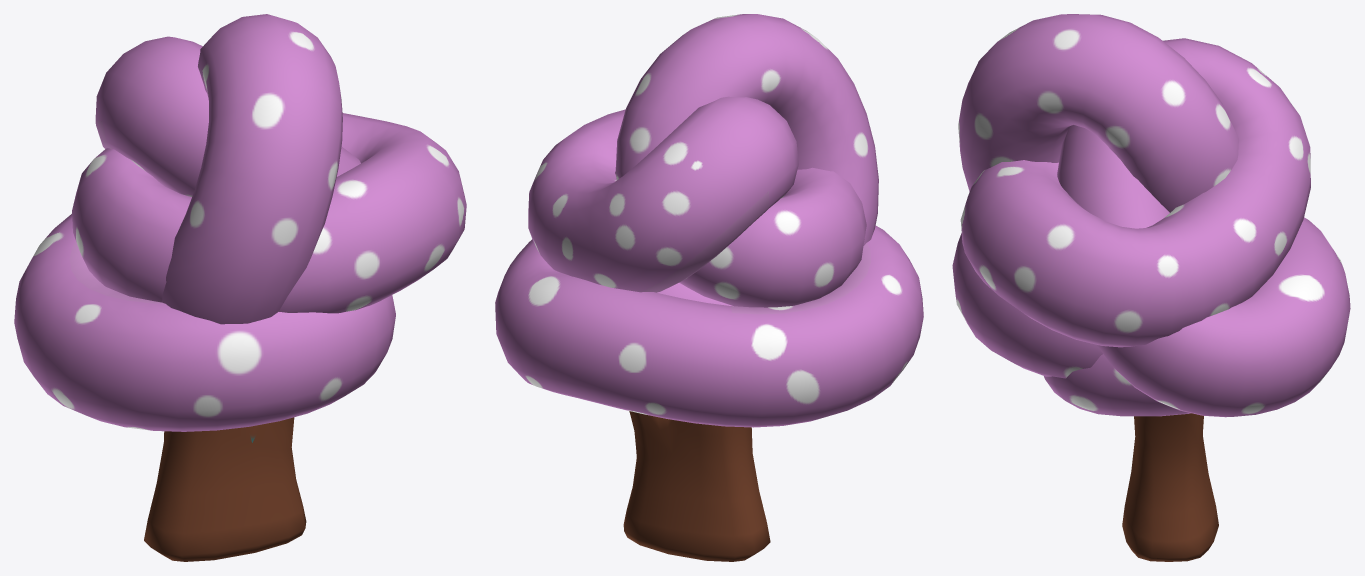
Rendered from tree.fbx.
The picture shows the model from 3 angles, left to right: view 1: azimuth 30°, elevation 25°; view 2: azimuth 150°, elevation 25°; view 3: azimuth 270°, elevation 25°; orthographic projection. The views are drawn at different scales.
Visible parts, largest first — view 1: Tree_Leaves.001, TreeTrunk.001; view 2: Tree_Leaves.001, TreeTrunk.001; view 3: Tree_Leaves.001, TreeTrunk.001.
Part boxes in pixels (x1,y1,x2,y2): Tree_Leaves.001: (14, 14, 466, 431); TreeTrunk.001: (144, 417, 306, 561); Tree_Leaves.001: (495, 14, 923, 427); TreeTrunk.001: (623, 411, 770, 561); Tree_Leaves.001: (952, 14, 1350, 417); TreeTrunk.001: (1122, 413, 1218, 561).
Bounding box in the file's own units: 1.44 × 1.87 × 1.31.
